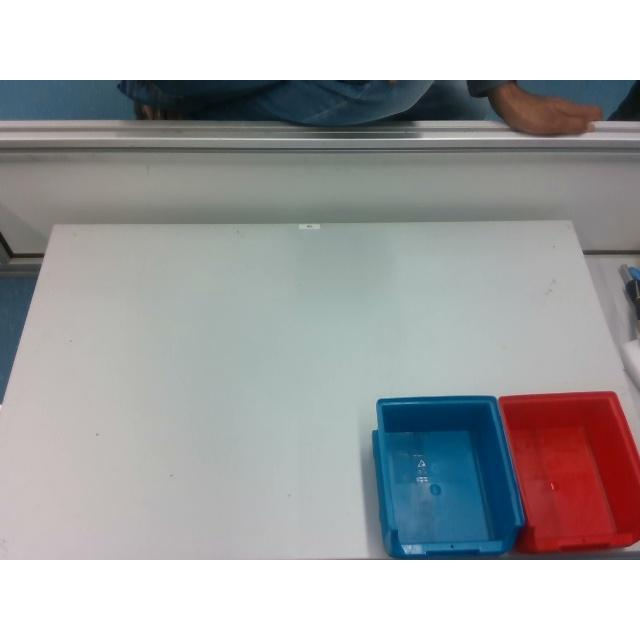container_box_blue: (373, 396, 523, 556)
container_box_red: (498, 391, 638, 551)
